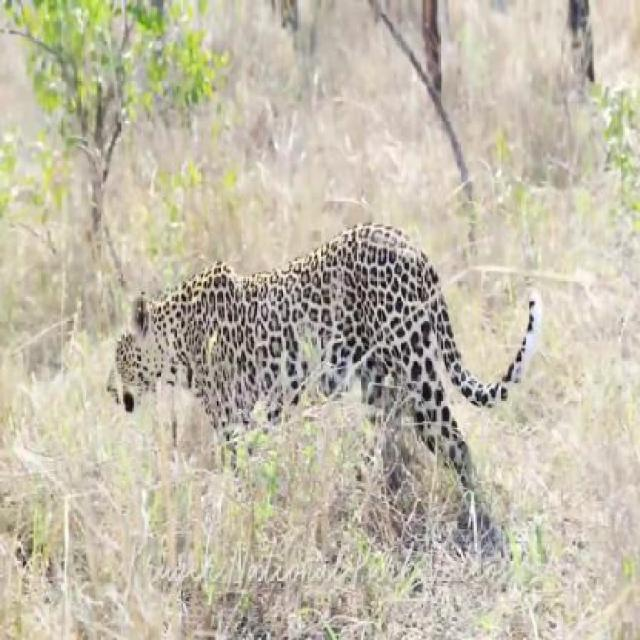Leopard: (108, 201, 582, 564)
